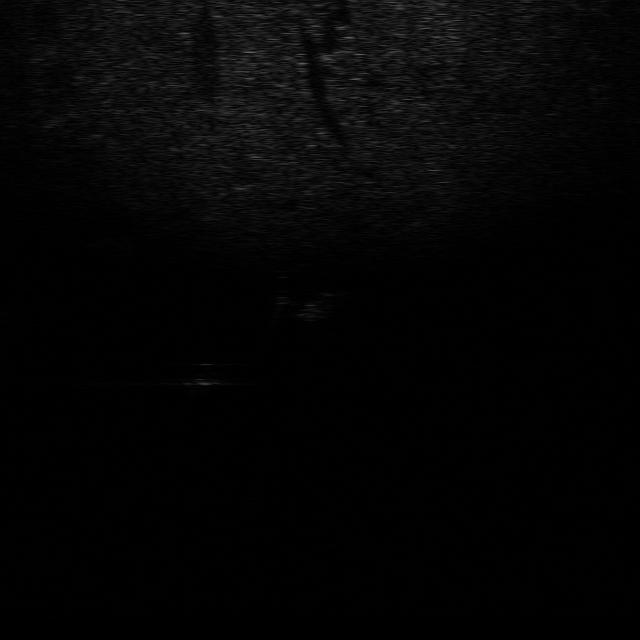ball: (174, 359, 228, 394)
human body: (261, 282, 350, 326)
